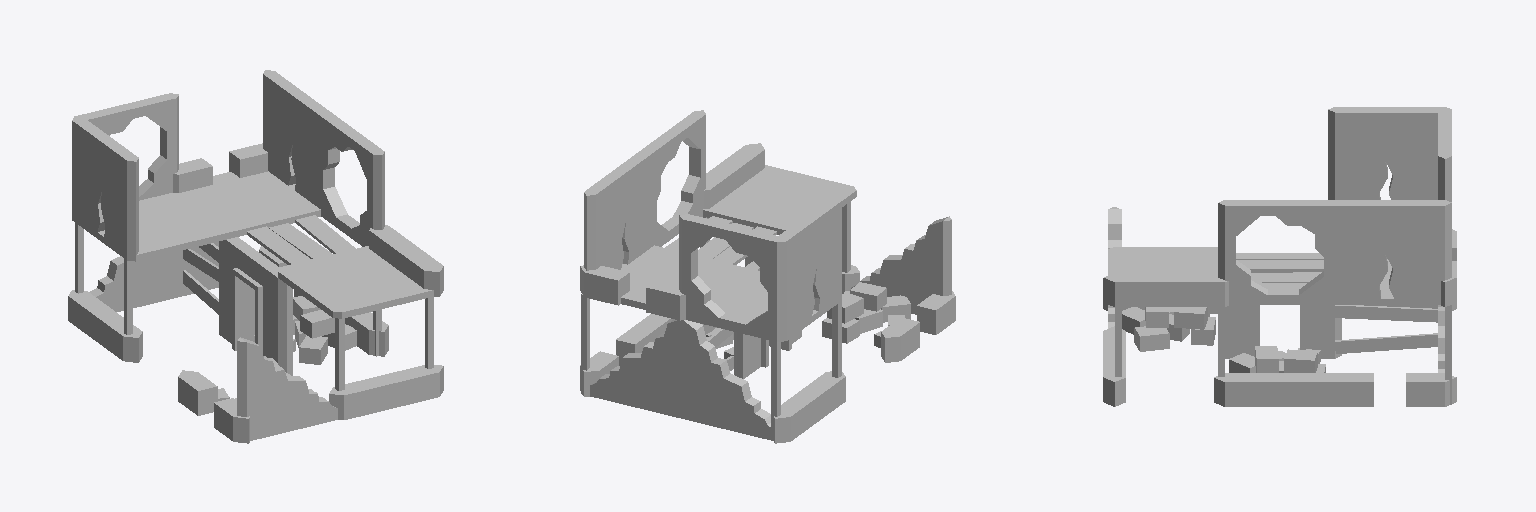
File: Casa 9 Semi Rota.obj
The picture shows the model from 3 angles: view 1: azimuth 30°, elevation 25°; view 2: azimuth 150°, elevation 25°; view 3: azimuth 270°, elevation 25°; orthographic projection.
Bounding box in the file's own units: 2.21 × 2 × 3.21.